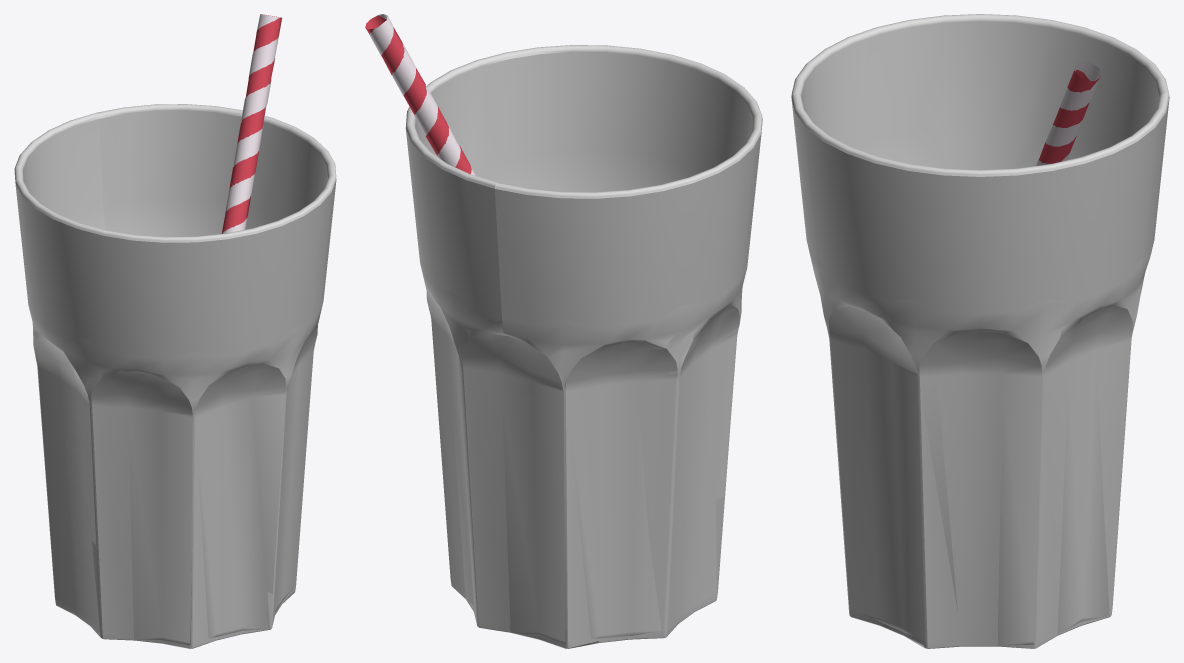
The model's file is glass.glb.
The picture shows the model from 3 angles, left to right: view 1: azimuth 30°, elevation 25°; view 2: azimuth 150°, elevation 25°; view 3: azimuth 270°, elevation 25°; orthographic projection. The views are drawn at different scales.
Visible parts, largest first — view 1: glass, straw_1; view 2: glass, straw_1; view 3: glass, straw_1.
Boxes of the visible parts, x1=… form: glass: x1=14, y1=104, x2=336, y2=648; straw_1: x1=221, y1=14, x2=281, y2=233; glass: x1=405, y1=45, x2=762, y2=648; straw_1: x1=365, y1=14, x2=476, y2=175; glass: x1=791, y1=14, x2=1169, y2=648; straw_1: x1=1036, y1=61, x2=1100, y2=165.
Bounding box in the file's own units: 0.9948 × 1.7 × 0.9576.
